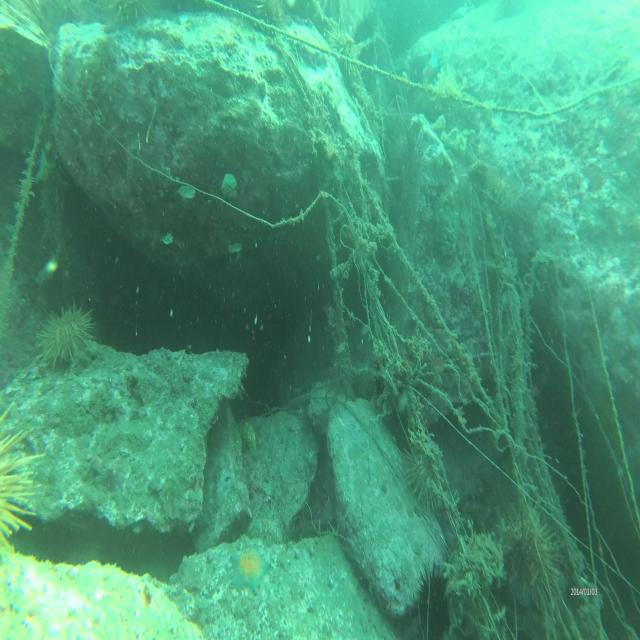echinus: (0, 391, 43, 558), (498, 506, 560, 608), (34, 298, 94, 369), (401, 444, 449, 518), (414, 557, 455, 640), (326, 15, 358, 77), (249, 0, 285, 41), (109, 0, 150, 27)
starfish: (231, 540, 272, 594)
